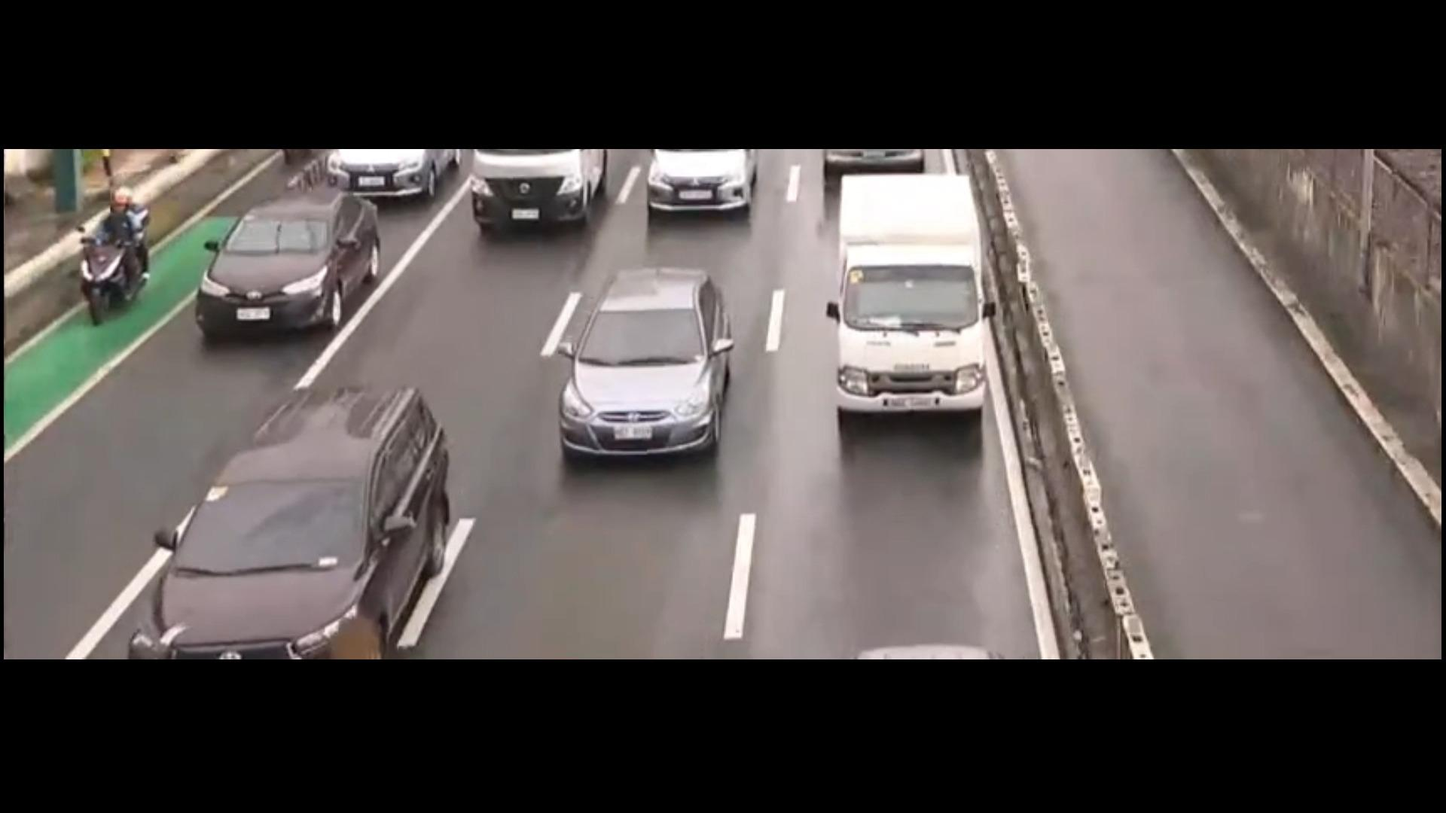Motorcycle: (72, 164, 174, 343)
SUV: (131, 343, 492, 660)
Sedan: (516, 257, 773, 477), (180, 185, 398, 349)
Truck: (804, 164, 1010, 438)
